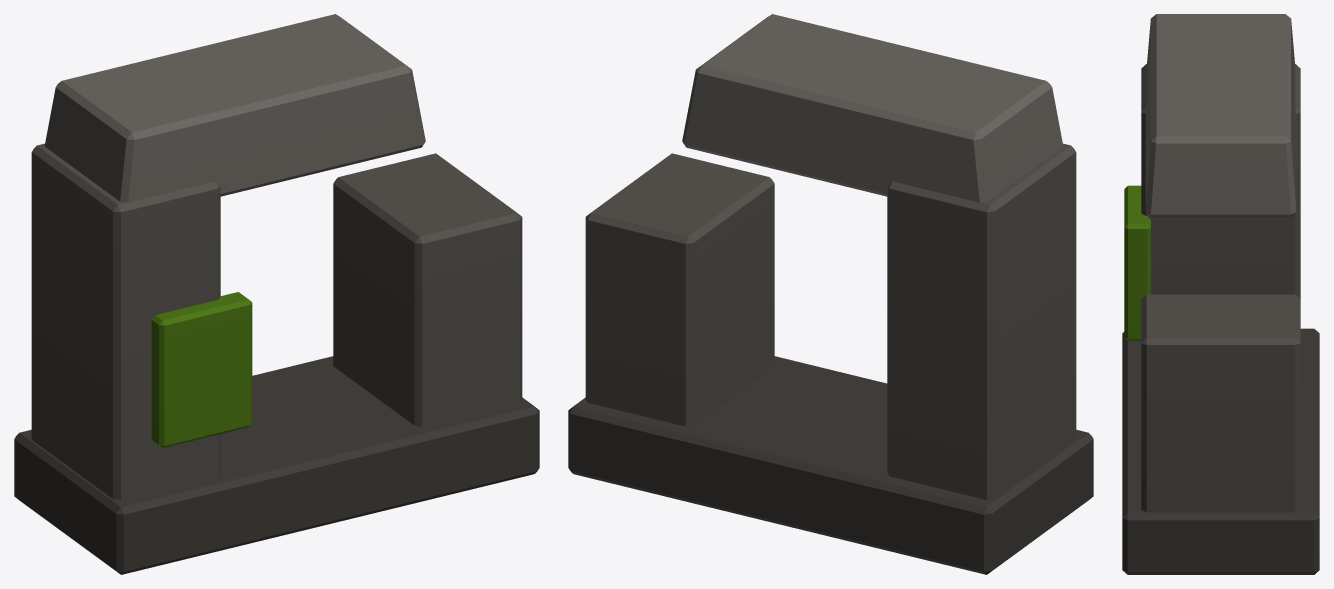
File: ruin_wall.glb
The picture shows the model from 3 angles, left to right: view 1: azimuth 30°, elevation 25°; view 2: azimuth 150°, elevation 25°; view 3: azimuth 270°, elevation 25°; orthographic projection. The views are drawn at different scales.
Visible parts, largest first — view 1: ruin_wall; view 2: ruin_wall; view 3: ruin_wall.
Boxes of the visible parts, x1,y1,x2,y2 form: ruin_wall: (14,14,539,574); ruin_wall: (568,14,1093,574); ruin_wall: (1122,14,1319,574).
Size of the model in its own units: 1.18 by 1.13 by 0.52.
